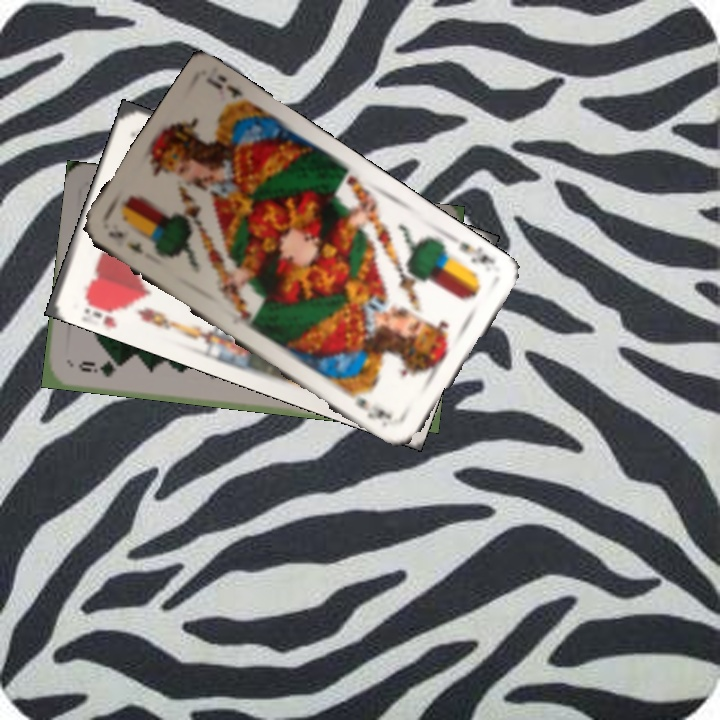EK: (454, 237, 498, 268), (104, 226, 146, 257)
G9: (74, 357, 125, 380)
HK: (80, 291, 130, 321)
